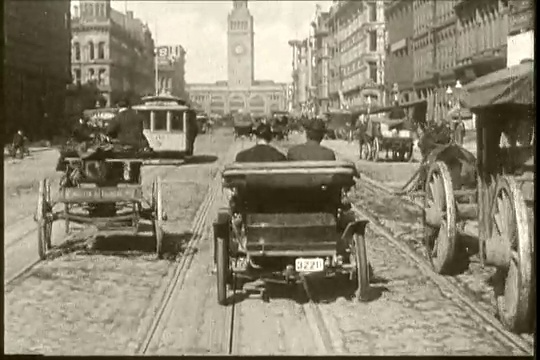car: (207, 123, 371, 306)
carriage: (409, 64, 540, 335), (33, 94, 166, 263), (349, 101, 414, 158)
trolley: (122, 93, 200, 163)
